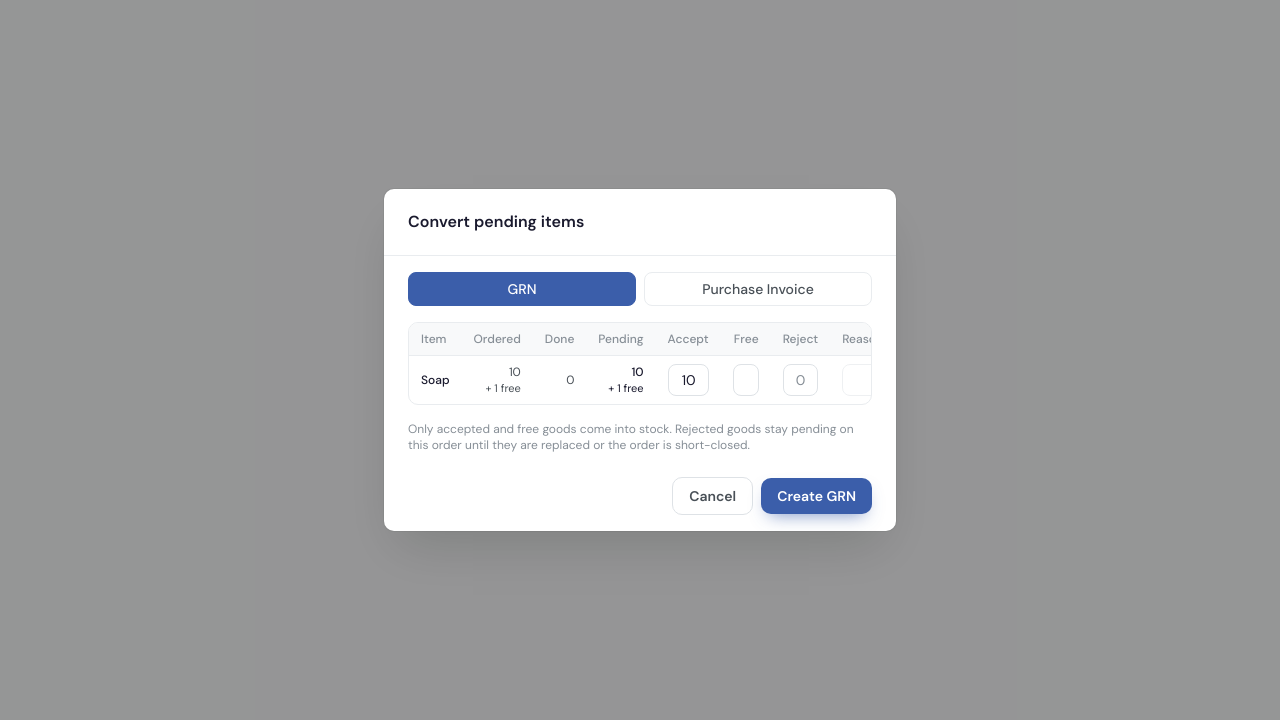
Test case: ConvertDocumentDialog › refuses accepted + rejected beyond what is pending
Type "1" into the number field named "Rejected quantity of Soap" at (800, 380), box [783,364,818,396]
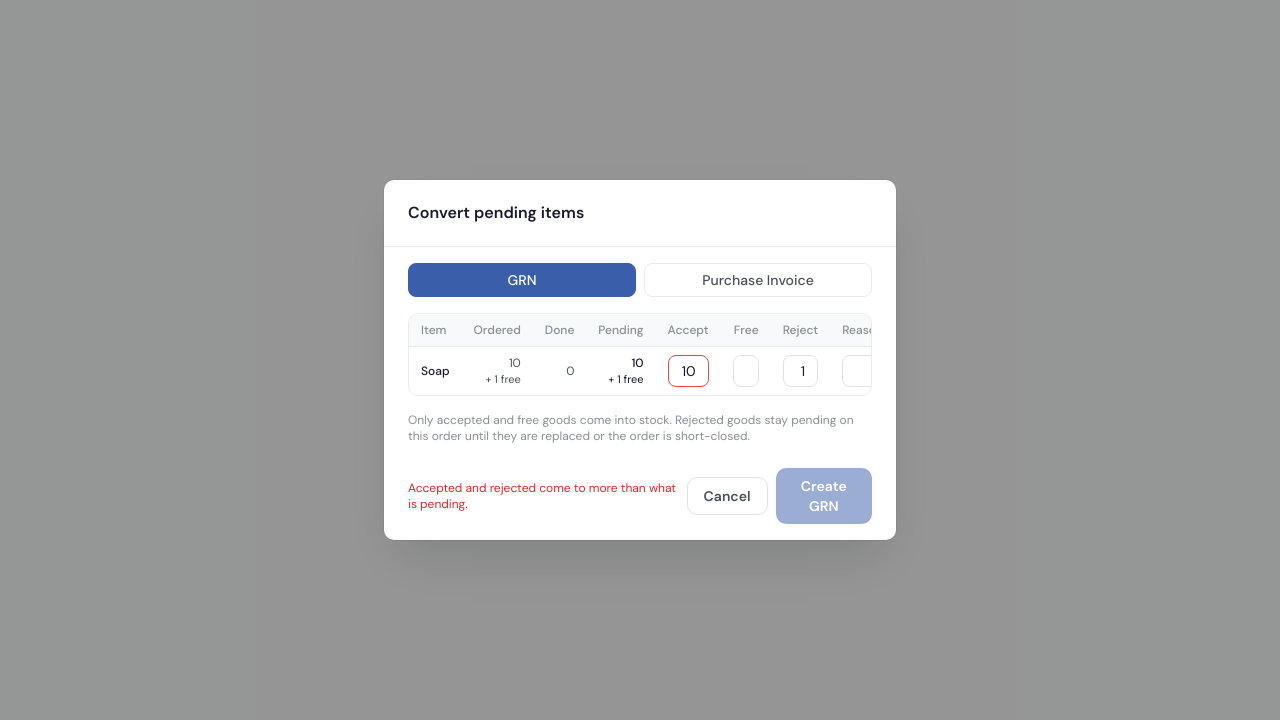
expect the text "Accepted and rejected come to more than what is pending." is shown: met, box [408,480,679,512]
